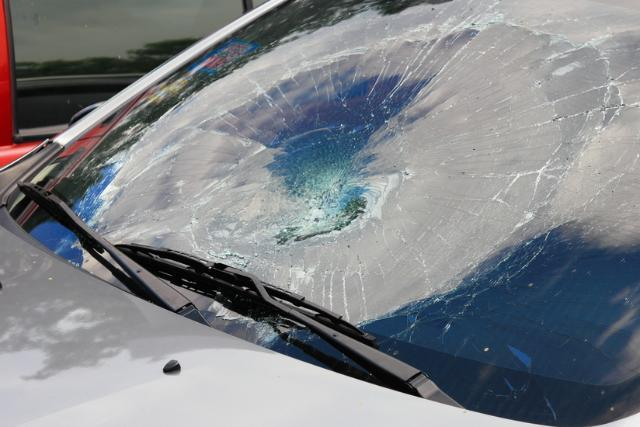Windshield: (19, 0, 640, 427)
